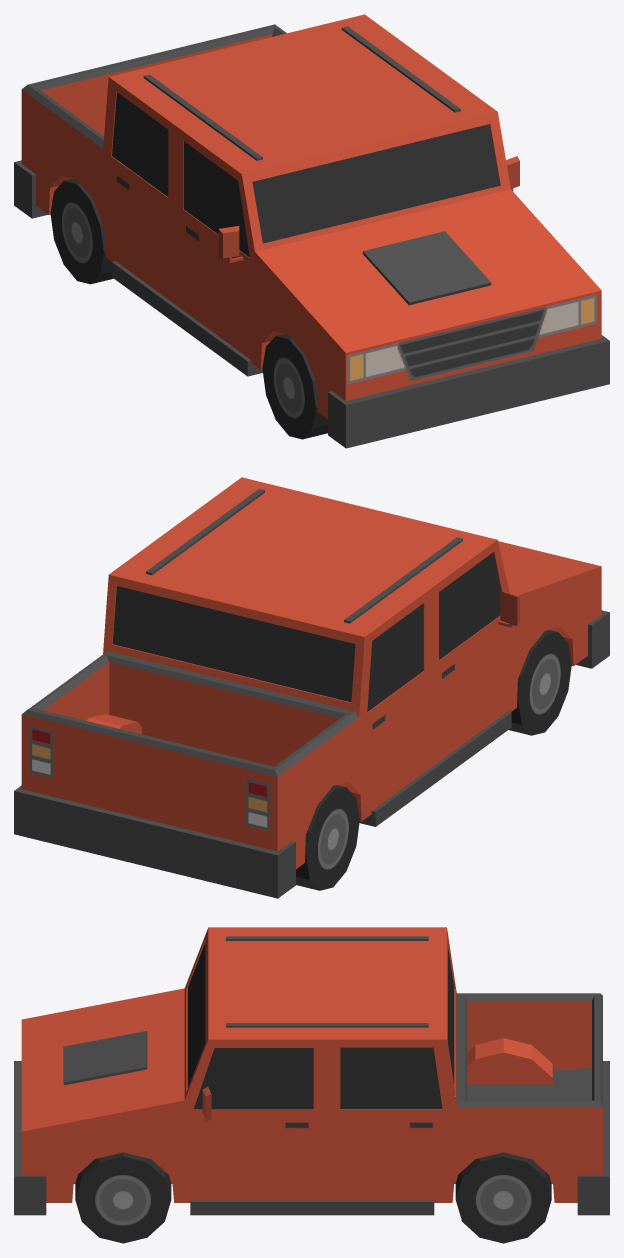
File: pickup.gltf
3 views of the same model, one above another, from view 1: azimuth 30°, elevation 25°; view 2: azimuth 150°, elevation 25°; view 3: azimuth 270°, elevation 25° (orthographic). The views are drawn at different scales.
Visible parts, largest first — view 1: pickup; view 2: pickup; view 3: pickup.
Part boxes in pixels (x1,y1,x2,y2): pickup: [14, 14, 609, 448]; pickup: [14, 477, 609, 898]; pickup: [14, 927, 609, 1243].
Size of the model in its own units: 3.1 by 2.27 by 5.97.
Materials: 1 (1 with a texture image).
